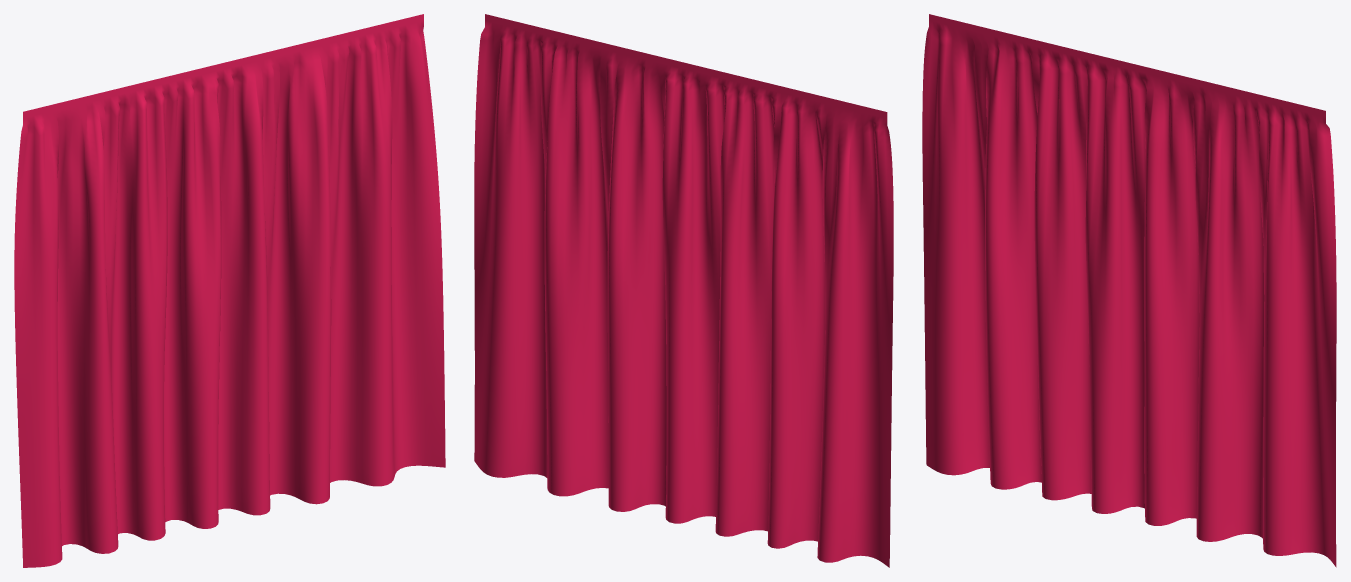
Rendered from CORTINA_DERECHA.obj.
The picture shows the model from 3 angles, left to right: view 1: azimuth 30°, elevation 25°; view 2: azimuth 150°, elevation 25°; view 3: azimuth 330°, elevation 25°; orthographic projection.
Visible parts, largest first — view 1: Сurtain.002; view 2: Сurtain.002; view 3: Сurtain.002.
Part boxes in pixels (bbox=[...]): Сurtain.002: bbox=[14, 14, 445, 567]; Сurtain.002: bbox=[474, 14, 893, 567]; Сurtain.002: bbox=[922, 14, 1336, 567].
Size of the model in its own units: 1.79 by 1.83 by 0.1597.
Materials: 1 (1 with a texture image).
